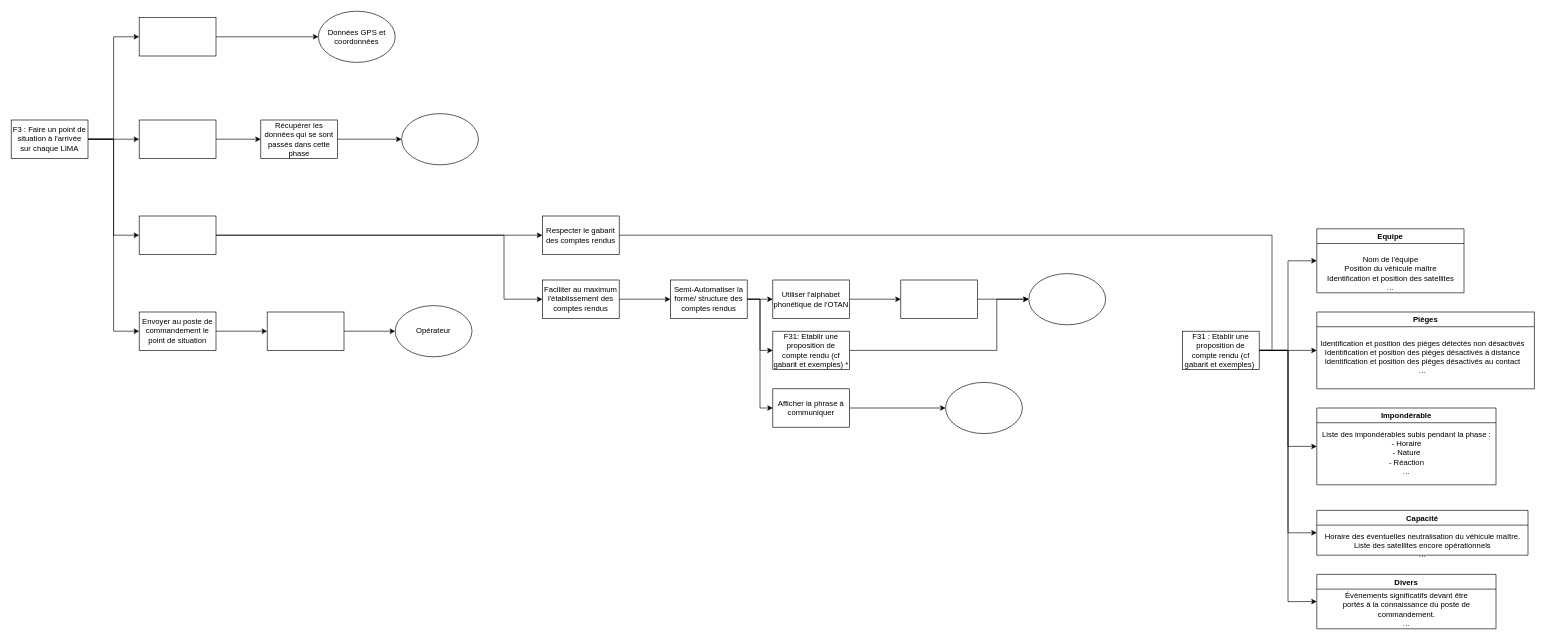
Image size: 1546x640. Some labels were removed from this diagram. The centre of each missing label's shape, as x and y in pixels:
"Acquérir l'arrivée sur une LIMA" belongs at [177,36].
"Acquérir l'ensemble des données de la phase" belongs at [177,138].
"Algo" belongs at [1067,299].
"Algo + stockage de l'information (historique?)" belongs at [439,139].
"Communiquer l'information" belongs at [305,330].
"Convertir automatiquement" belongs at [939,298].
"F33 : Formaliser les données" belongs at [177,234].
"écran plateforme visuelle" belongs at [983,408].
